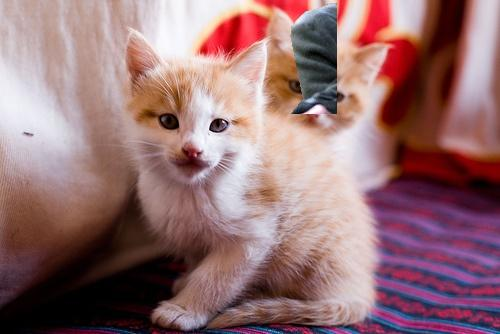tampered: (291, 4, 337, 114)
